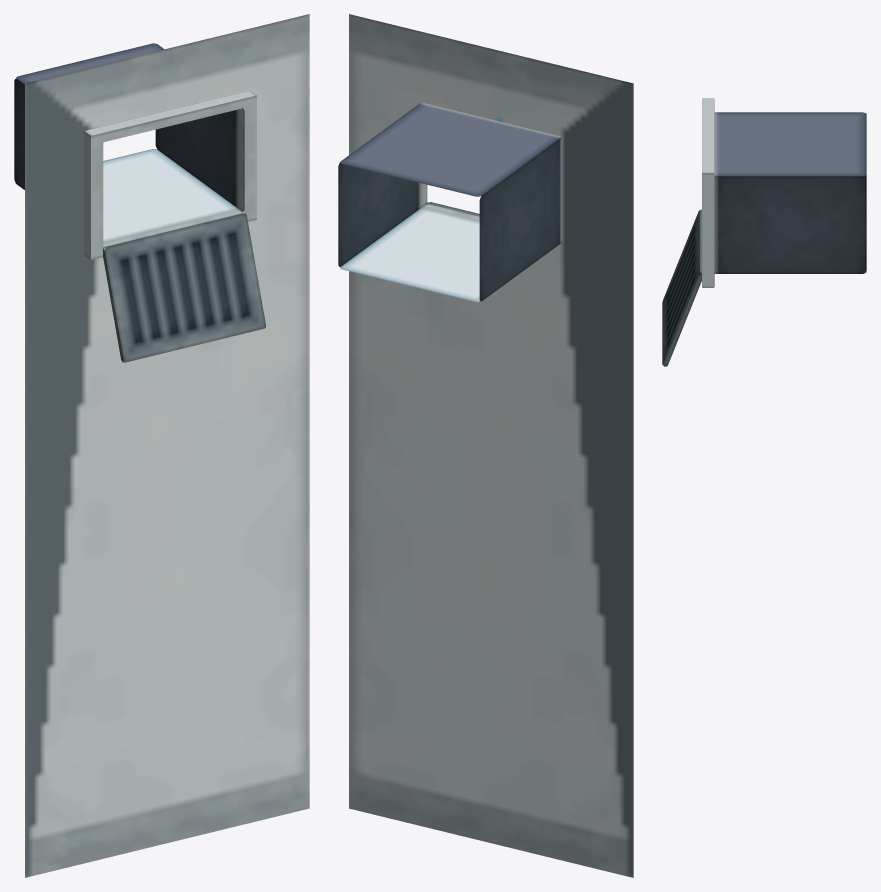
The model's file is vent-entrance.fbx.
3 renders of one model, left to right at view 1: azimuth 30°, elevation 25°; view 2: azimuth 150°, elevation 25°; view 3: azimuth 270°, elevation 25°, orthographic. The views are drawn at different scales.
Parts seen in each view (by area): view 1: vent-wall, Entrance, cube; view 2: vent-wall, Entrance; view 3: Entrance, cube.
Part boxes in pixels (bbox=[...]): vent-wall: bbox=[25, 14, 309, 877]; Entrance: bbox=[14, 43, 256, 259]; cube: bbox=[103, 213, 265, 362]; vent-wall: bbox=[349, 14, 633, 877]; Entrance: bbox=[338, 102, 562, 302]; Entrance: bbox=[702, 98, 866, 287]; cube: bbox=[662, 209, 701, 366].
Size of the model in its own units: 37.5 by 100 by 25.18.
Materials: 2 (2 with a texture image).
